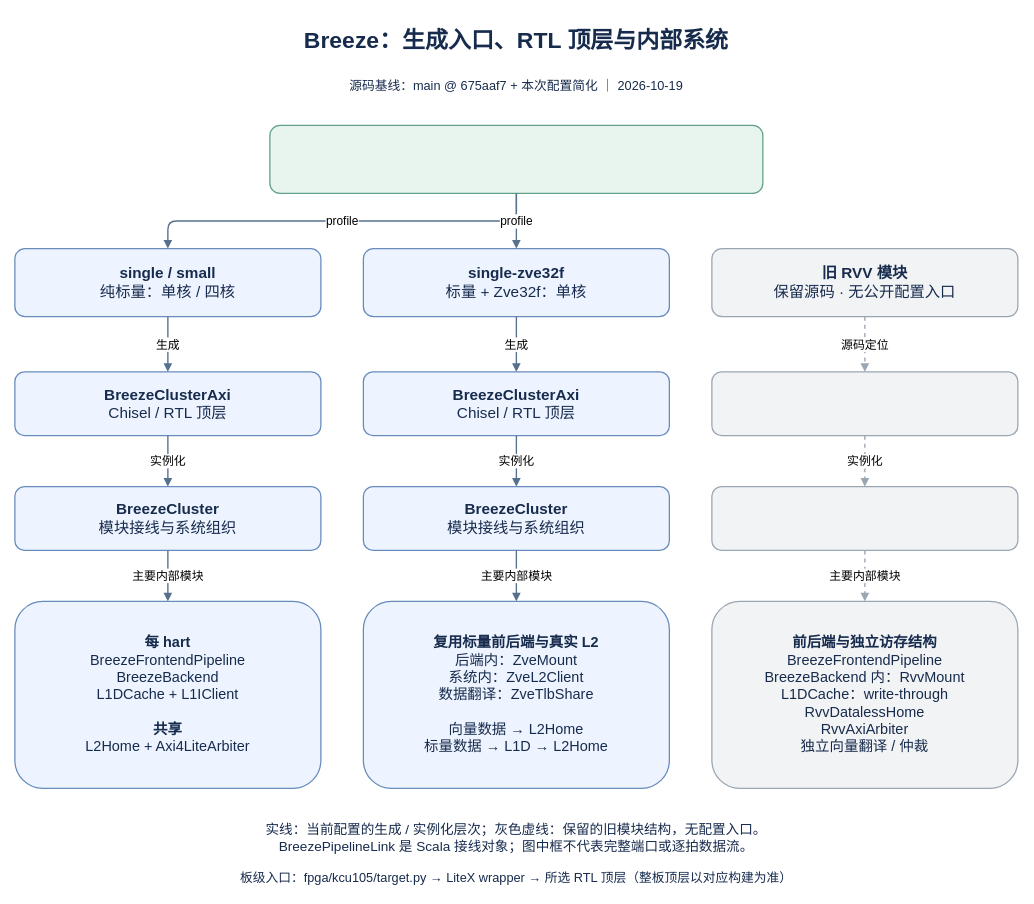
Image size: 1034x904. Some labels were removed from this diagram. The box of each missing label's shape, as (x1, y1, x2, y2) in pixels:
BreezeRvvAxi 保留的旧硬件模块: (711, 371, 1018, 436)
BreezeRvvSystem 模块接线与系统组织: (711, 486, 1018, 551)
生成程序：flow.top.GenerateBreezeCluster 公开配置固定 GShare / Linux: (269, 124, 763, 194)
